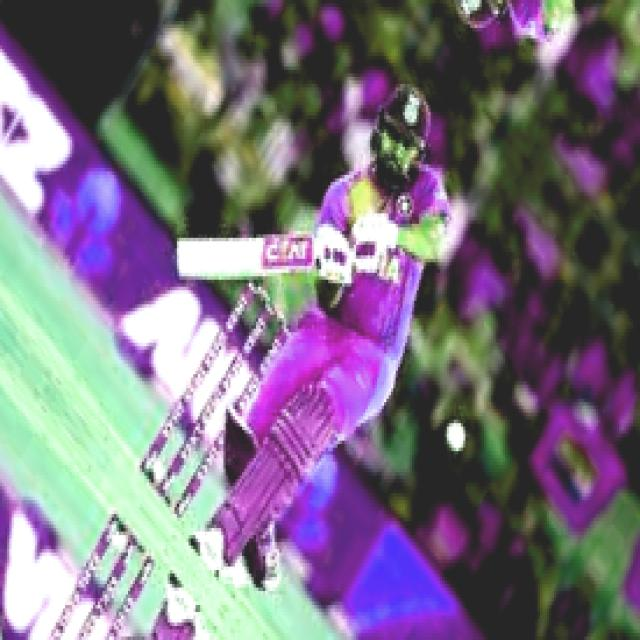toe: (173, 227, 186, 292)
